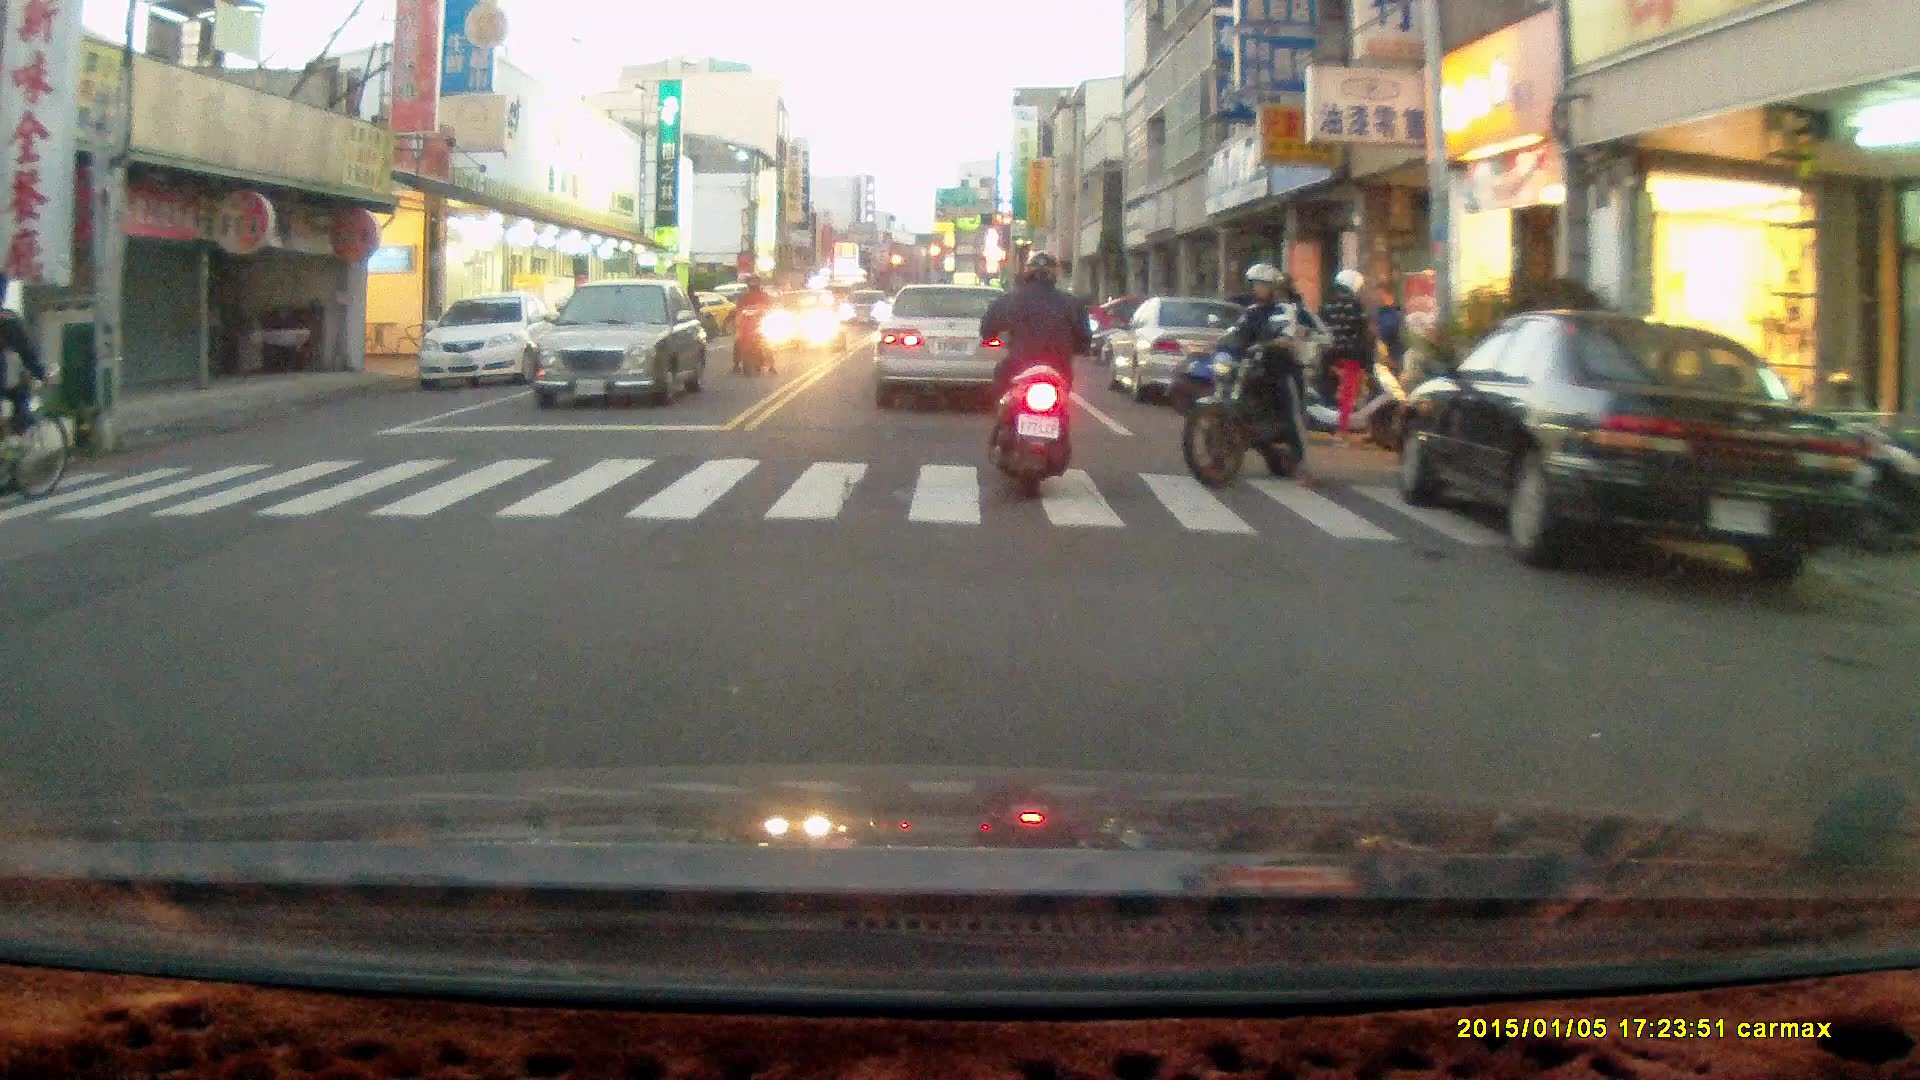pedestrian: (1324, 266, 1374, 439), (1365, 280, 1411, 415)
rider: (1178, 257, 1343, 484), (981, 244, 1100, 496), (0, 285, 68, 500), (725, 272, 777, 376)
vehicle: (1404, 311, 1867, 586), (531, 278, 713, 411), (870, 284, 1025, 407), (1099, 294, 1273, 400), (415, 291, 565, 393), (1, 275, 47, 467), (760, 288, 848, 360)
